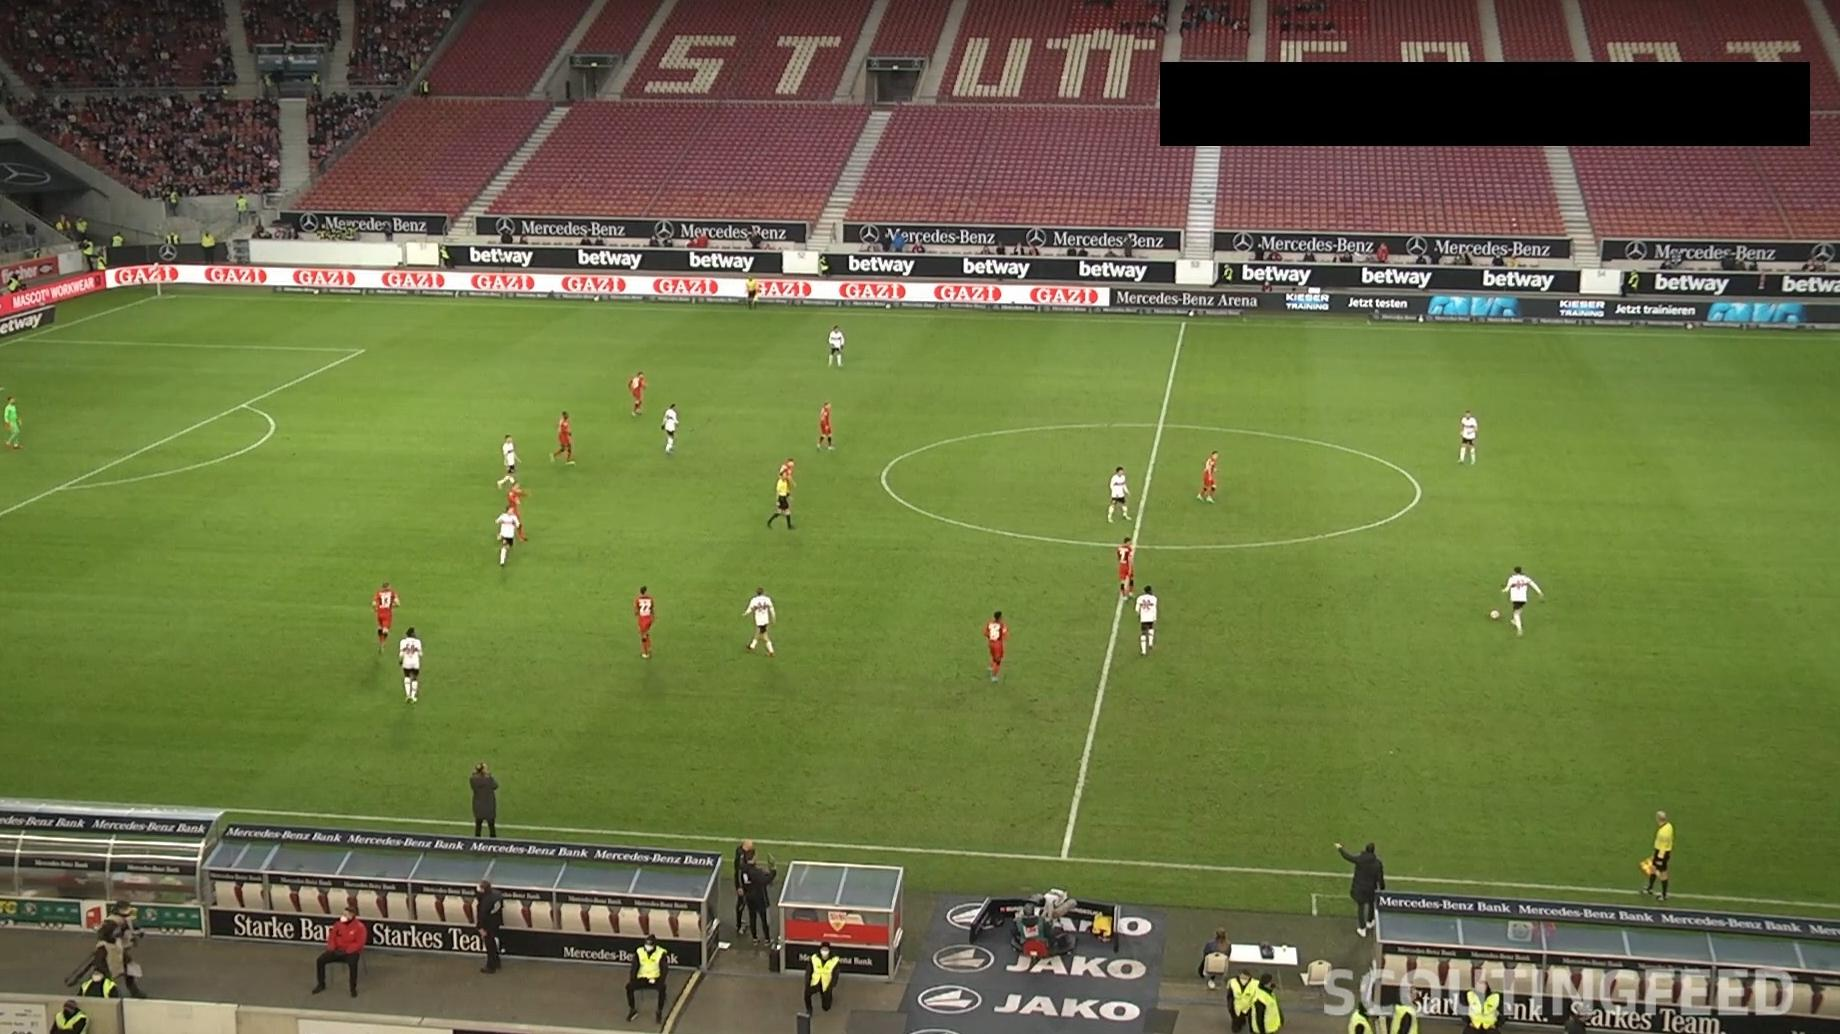ball: (1487, 608, 1501, 621)
